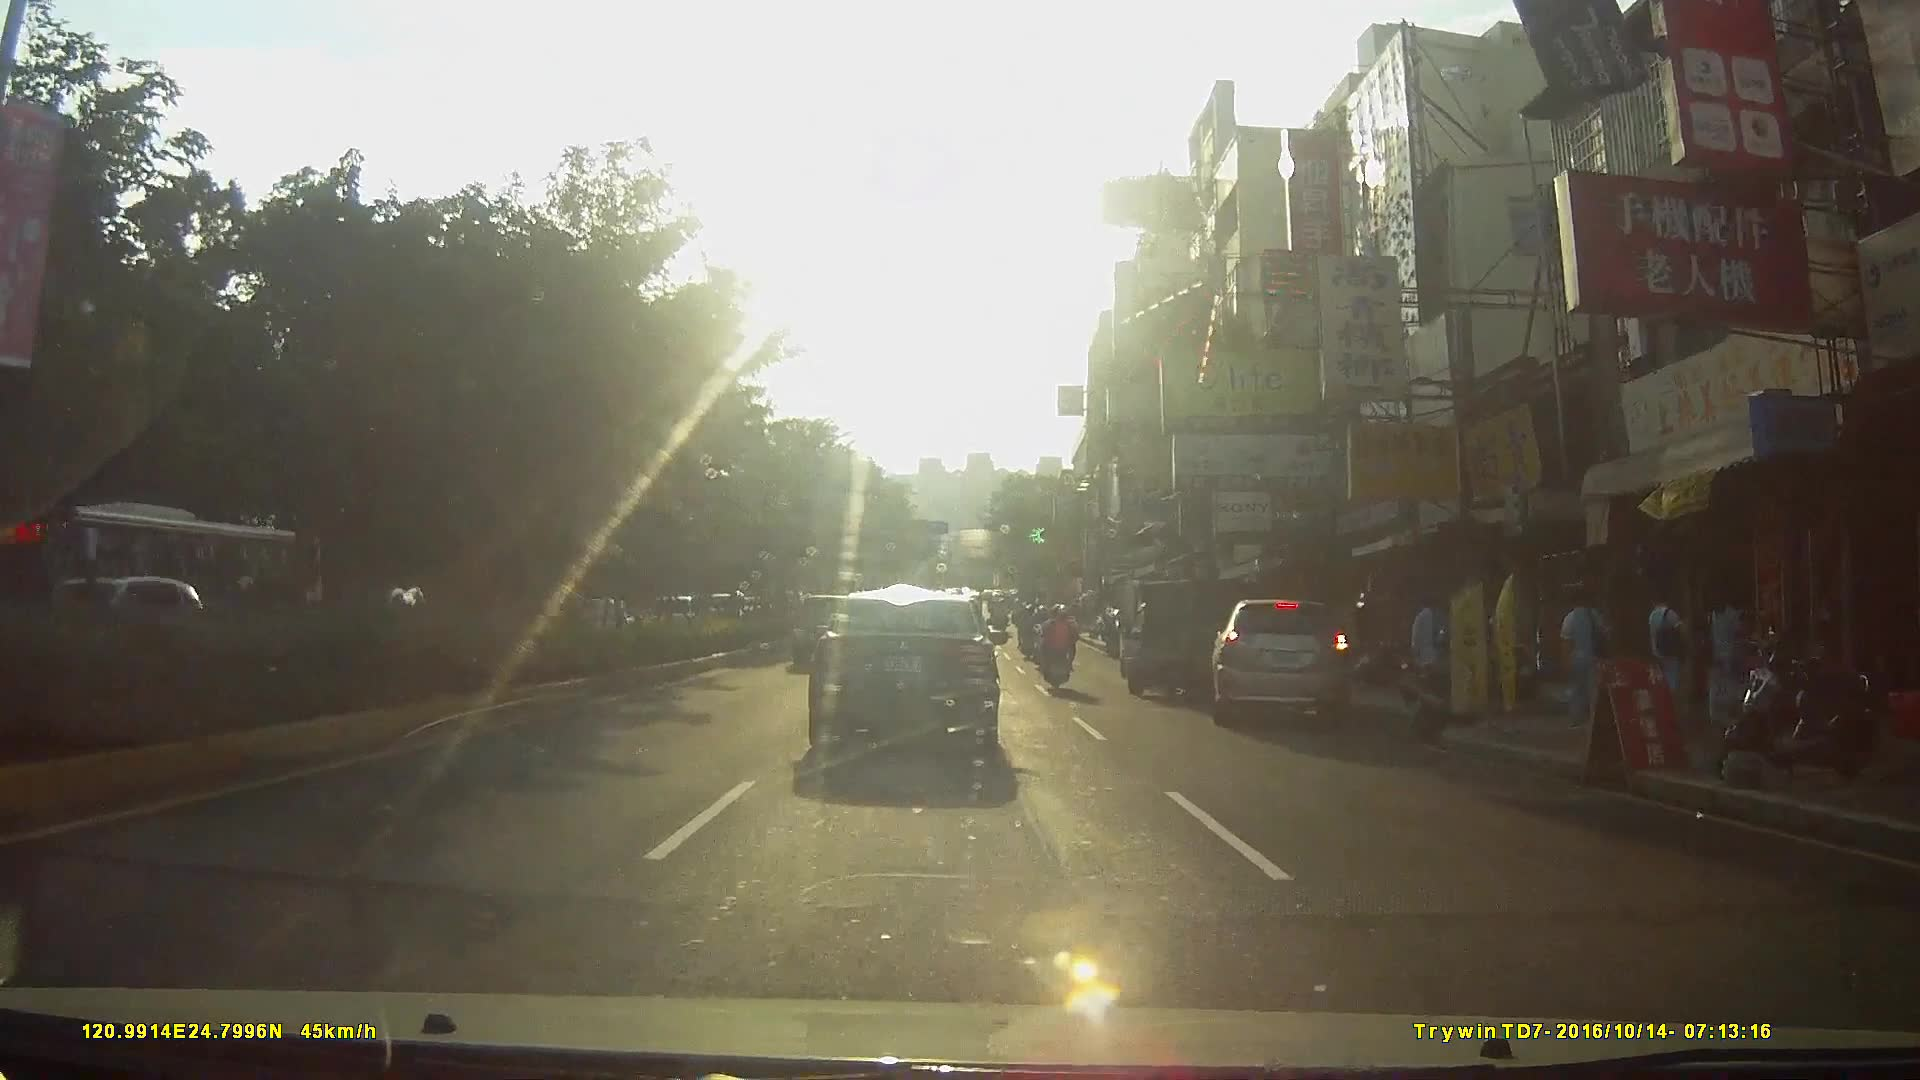pedestrian: (1562, 581, 1613, 732), (1649, 585, 1690, 744), (1703, 583, 1747, 727), (1411, 593, 1453, 703)
rider: (1037, 596, 1080, 693), (1018, 601, 1043, 662)
vehicle: (32, 500, 331, 665), (810, 592, 1029, 776), (1203, 588, 1371, 739), (1111, 566, 1242, 710)
